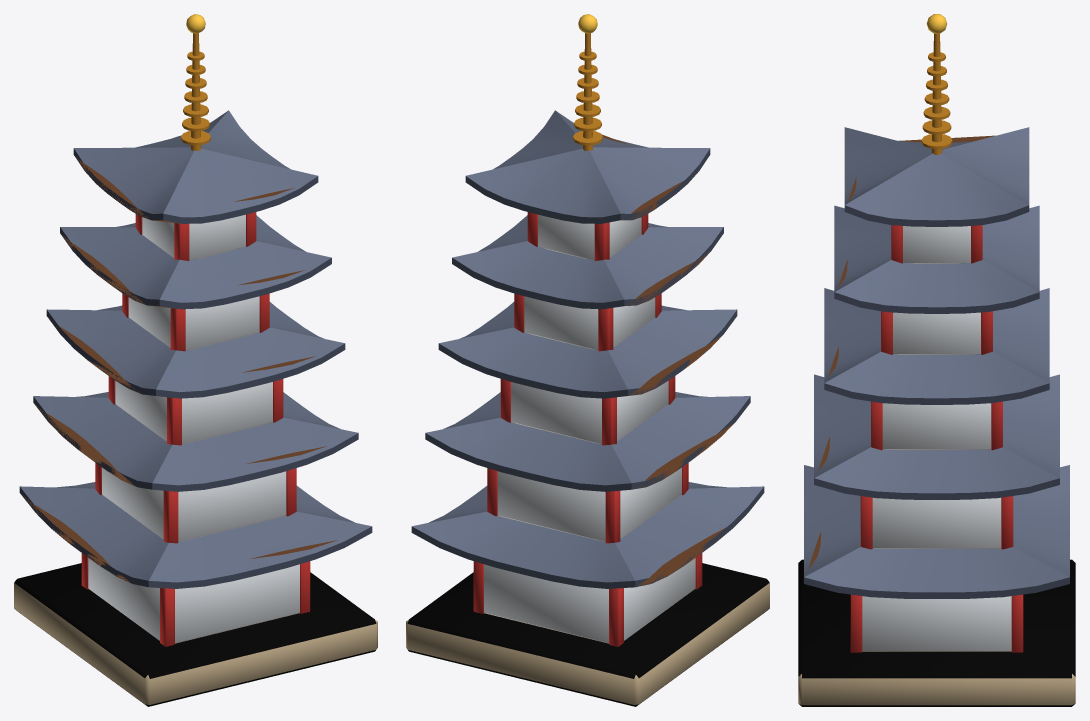
Rendered from Pagoda.fbx.
The picture shows the model from 3 angles, left to right: view 1: azimuth 30°, elevation 25°; view 2: azimuth 150°, elevation 25°; view 3: azimuth 270°, elevation 25°; orthographic projection. The views are drawn at different scales.
Visible parts, largest first — view 1: Pagoda; view 2: Pagoda; view 3: Pagoda.
Part boxes in pixels (<box>): Pagoda: <box>14,14,377,706</box>; Pagoda: <box>406,14,769,706</box>; Pagoda: <box>798,14,1075,706</box>.
Size of the model in its own units: 7.5 by 18.98 by 7.5.
Materials: 1 (1 with a texture image).
